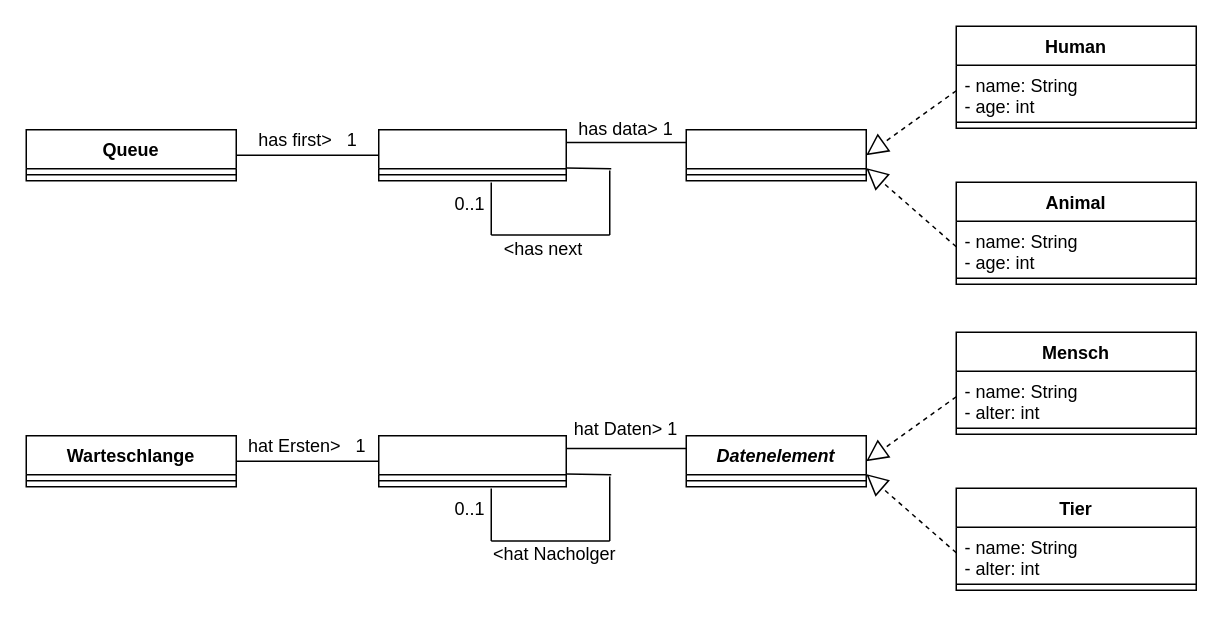
This 1223x617 diagram has some shape labels left out. Each missing label, with the centre of its shape:
"DataElement" goes at [775,154].
"Knoten" goes at [471,460].
"Node" goes at [471,154].
